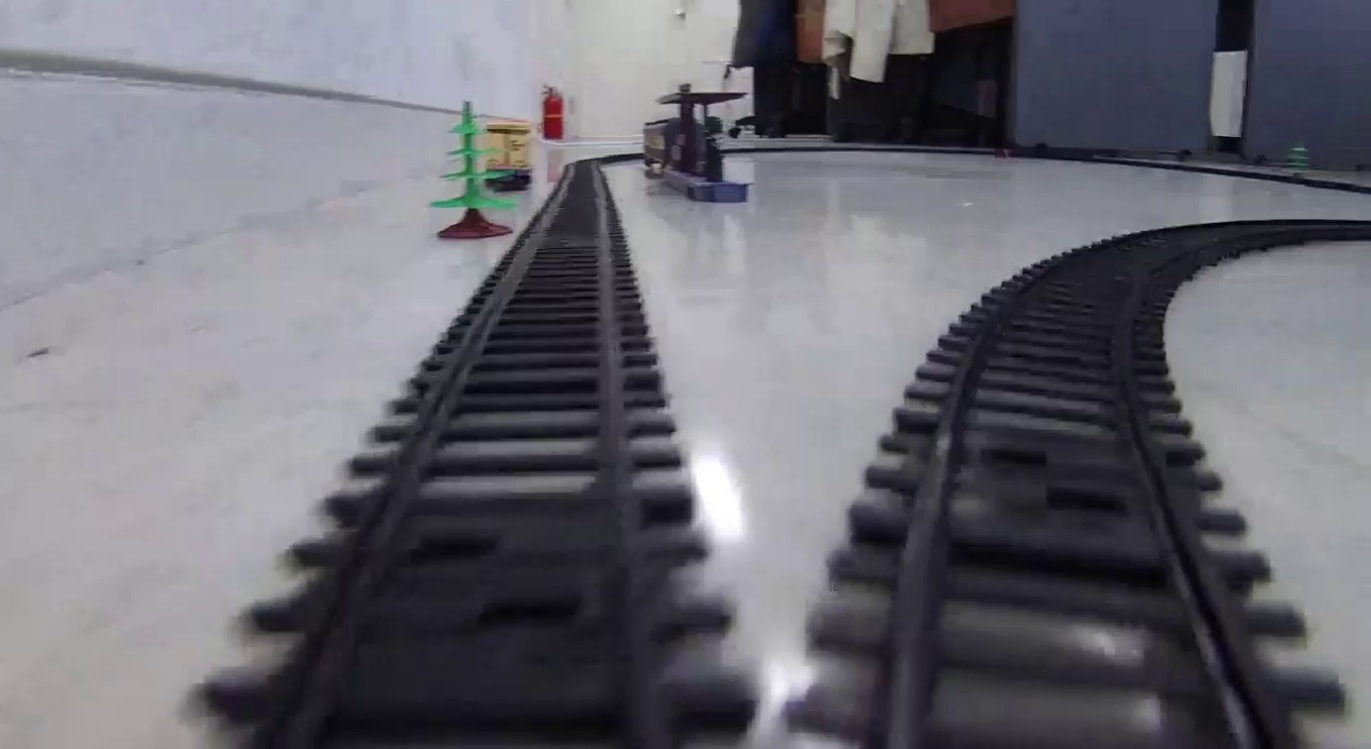tree: (427, 99, 516, 240)
